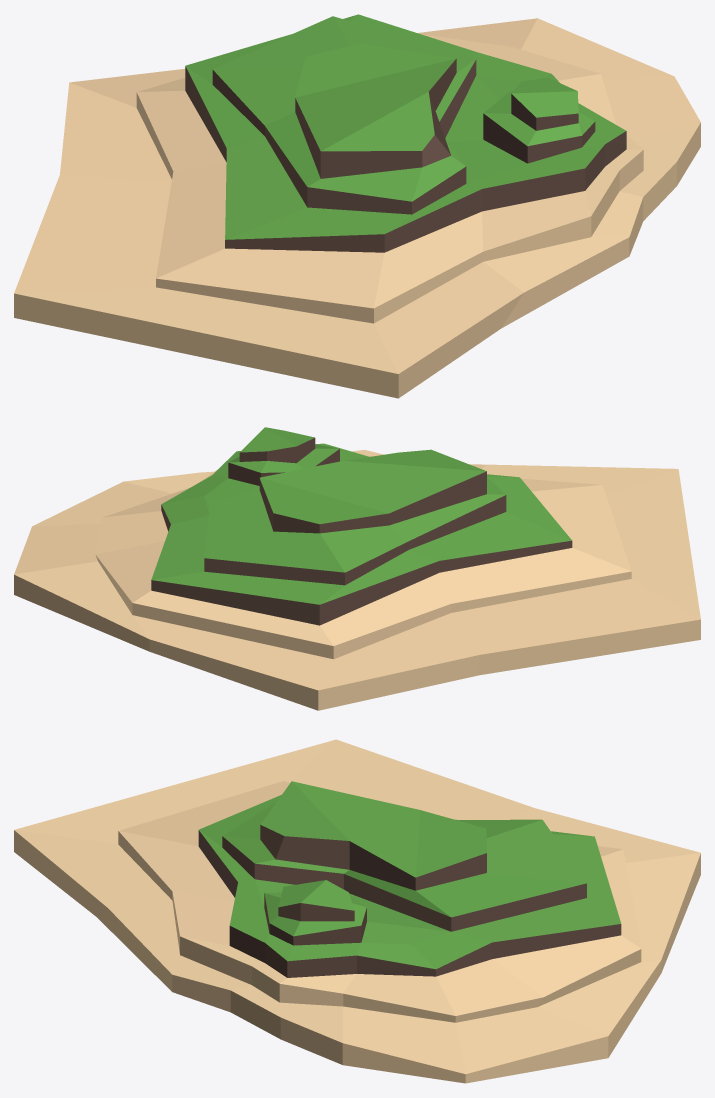
3 views of the same model, one above another, from view 1: azimuth 30°, elevation 25°; view 2: azimuth 150°, elevation 25°; view 3: azimuth 270°, elevation 25° (orthographic). The views are drawn at different scales.
Parts seen in each view (by area): view 1: ILE2; view 2: ILE2; view 3: ILE2.
Boxes of the visible parts, box(x1,y1,x2,y2) form: ILE2: box(14, 14, 700, 398); ILE2: box(14, 427, 700, 710); ILE2: box(14, 739, 700, 1083).
Bounding box in the file's own units: 1565 × 240 × 1411.
